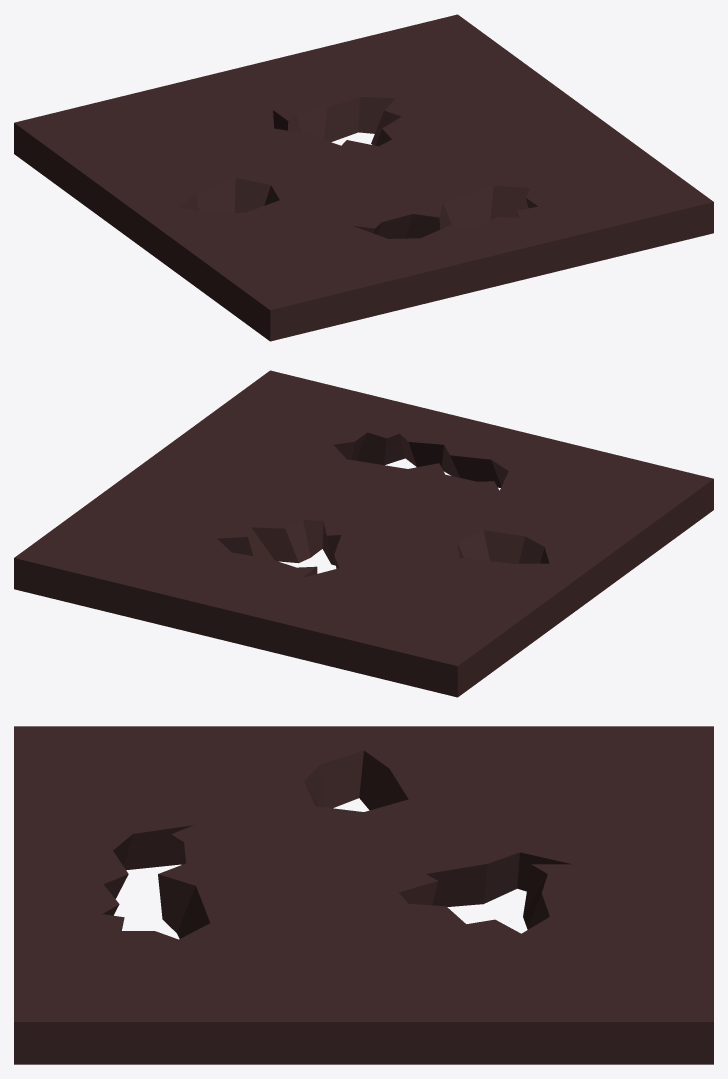
File: T_SolDetruit_02.fbx
3 views of the same model, one above another, from view 1: azimuth 30°, elevation 25°; view 2: azimuth 150°, elevation 25°; view 3: azimuth 270°, elevation 25° (orthographic). The views are drawn at different scales.
Visible parts, largest first — view 1: T_SolDetruit_02; view 2: T_SolDetruit_02; view 3: T_SolDetruit_02.
Part boxes in pixels (x1,y1,x2,y2): T_SolDetruit_02: [14, 14, 713, 341]; T_SolDetruit_02: [14, 370, 713, 697]; T_SolDetruit_02: [14, 726, 713, 1064].
Bounding box in the file's own units: 200 × 13.48 × 200.
